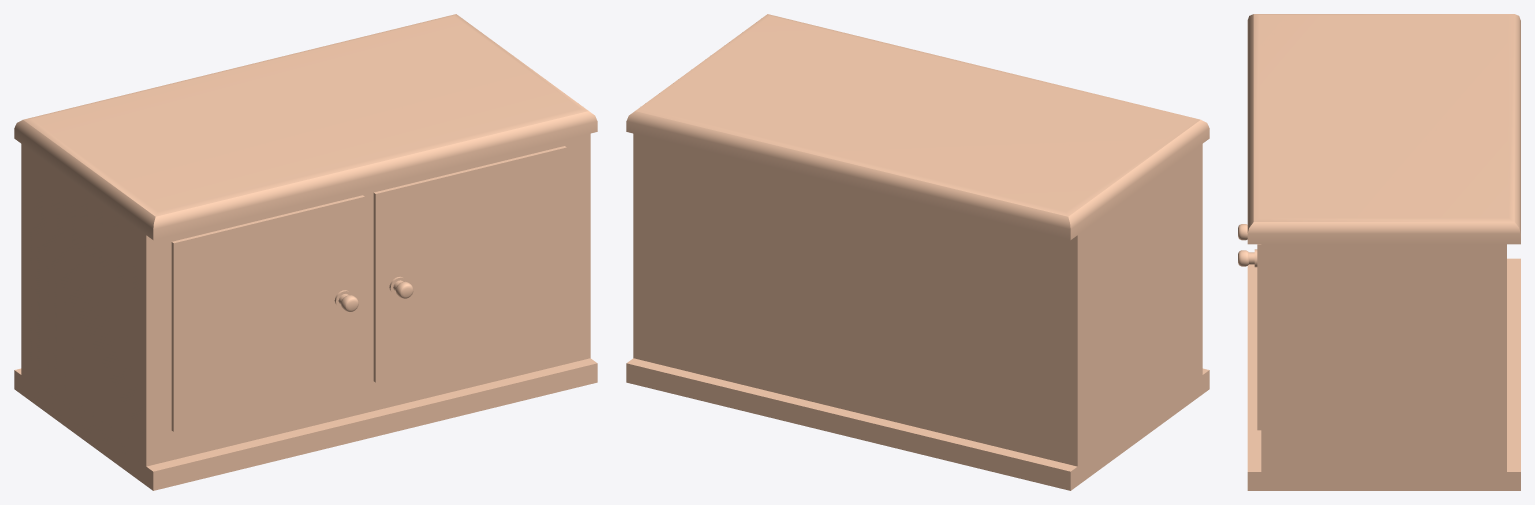
The model's file is station3.fbx.
3 views of the same model, side by side, from view 1: azimuth 30°, elevation 25°; view 2: azimuth 150°, elevation 25°; view 3: azimuth 270°, elevation 25° (orthographic).
Visible parts, largest first — view 1: group3_cabinet_base1; view 2: group3_cabinet_base1; view 3: group3_cabinet_base1.
Boxes of the visible parts, x1,y1,x2,y2 form: group3_cabinet_base1: (14,14,597,490); group3_cabinet_base1: (626,14,1209,490); group3_cabinet_base1: (1238,14,1520,490).
Bounding box in the file's own units: 99.74 × 58.36 × 55.86.
